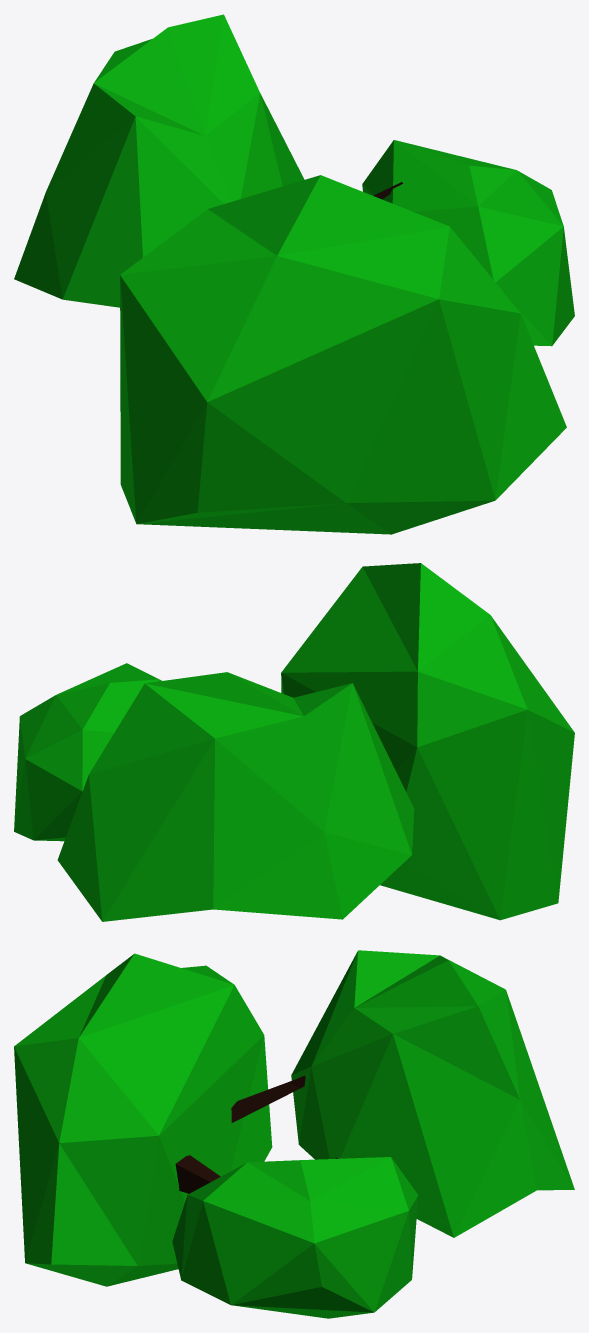
The model's file is buisson_3.FBX.
3 renders of one model, top to bottom at view 1: azimuth 30°, elevation 25°; view 2: azimuth 150°, elevation 25°; view 3: azimuth 270°, elevation 25°, orthographic. The views are drawn at different scales.
Visible parts, largest first — view 1: GeoSphere004; view 2: GeoSphere004; view 3: GeoSphere004.
Boxes of the visible parts, x1,y1,x2,y2 form: GeoSphere004: (14,14,574,534); GeoSphere004: (14,563,574,921); GeoSphere004: (14,950,574,1318).
Size of the model in its own units: 3.74 by 2.61 by 4.2.
